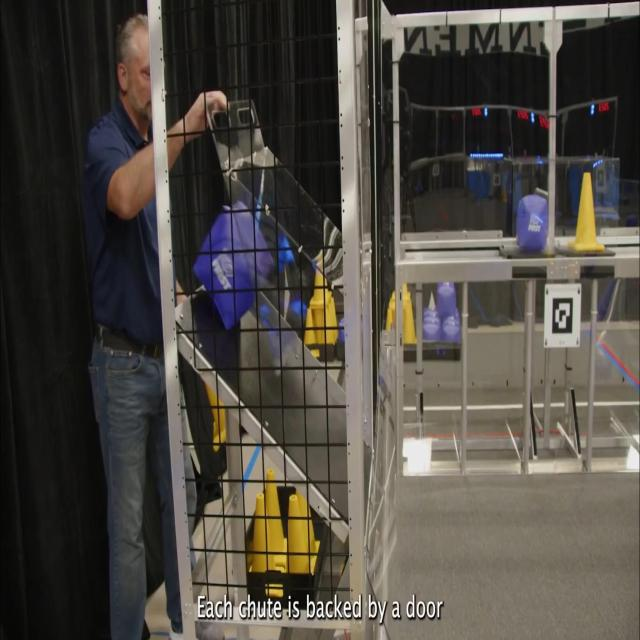frc_cone: (246, 488, 281, 591), (280, 487, 315, 588), (569, 172, 605, 253), (256, 465, 287, 558), (191, 367, 223, 452), (292, 464, 320, 557), (317, 298, 336, 354), (299, 308, 318, 360), (323, 287, 341, 338), (310, 263, 329, 308), (403, 295, 417, 350), (386, 305, 397, 336), (388, 288, 396, 314)
frc_cube: (195, 200, 274, 334), (514, 193, 548, 249), (435, 278, 456, 318), (438, 315, 461, 347), (422, 316, 440, 344)
